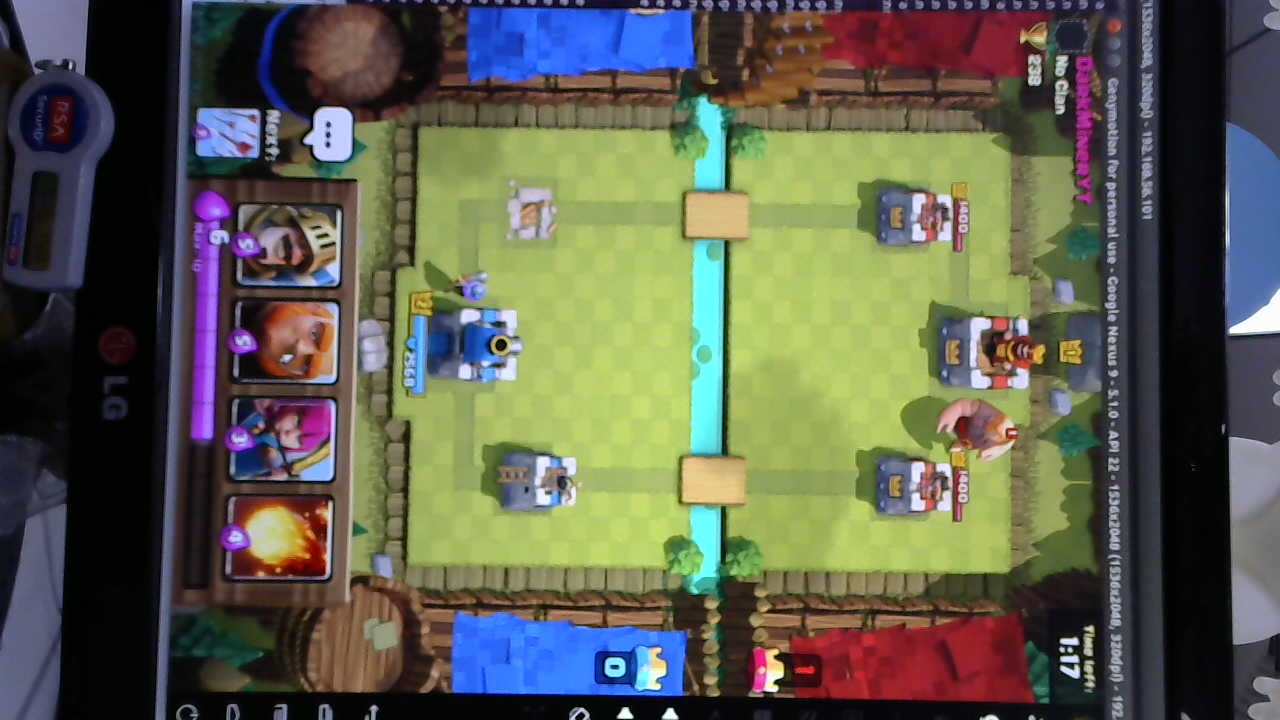arena: (497, 451, 582, 512)
darena: (503, 183, 564, 244)
earena: (870, 455, 957, 518), (869, 186, 955, 249)
eking: (928, 308, 1044, 393)
giant: (929, 396, 1021, 461)
king: (425, 312, 525, 384)
musketeer: (446, 269, 494, 305)
